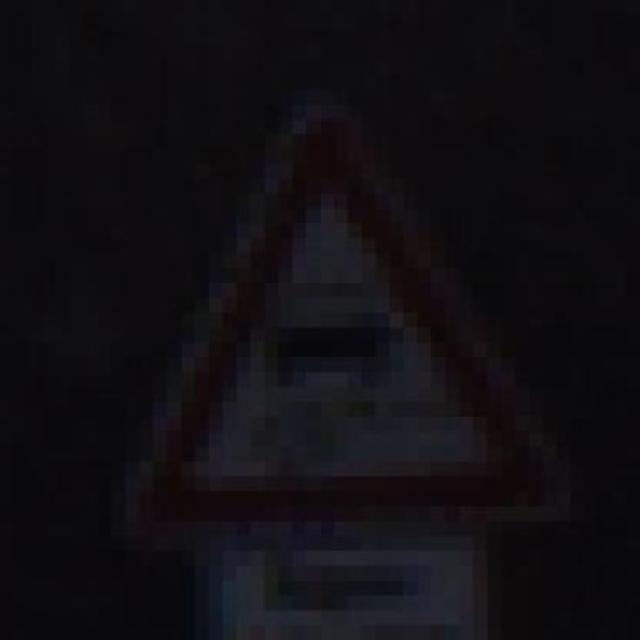Slippery Road Ahead: (83, 89, 599, 551)
